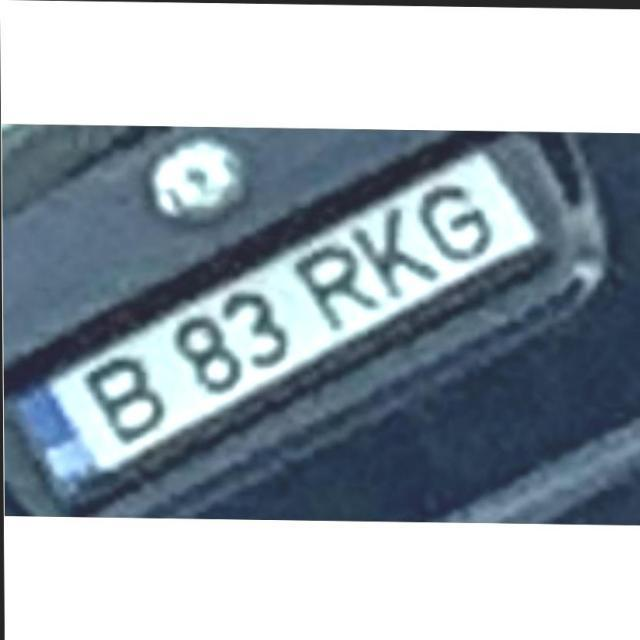license-plates: (8, 151, 548, 501)
